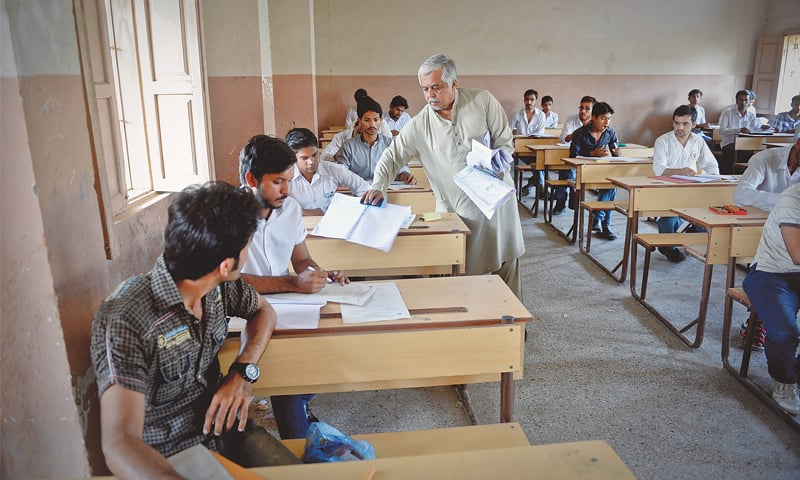chit: (321, 182, 408, 255)
invigilator: (424, 53, 538, 318)
student: (573, 103, 628, 229), (343, 93, 412, 189), (653, 105, 708, 199), (512, 84, 544, 155)
studentcopying: (242, 135, 371, 320)
